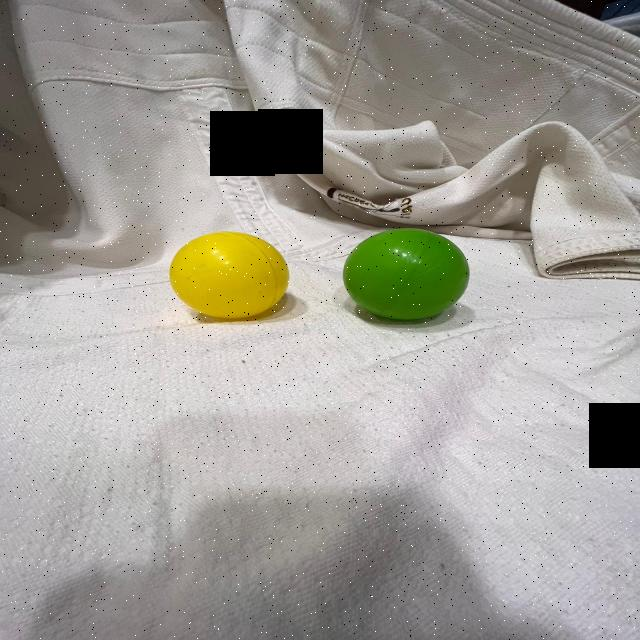ball: (341, 228, 472, 322), (167, 229, 293, 321)
